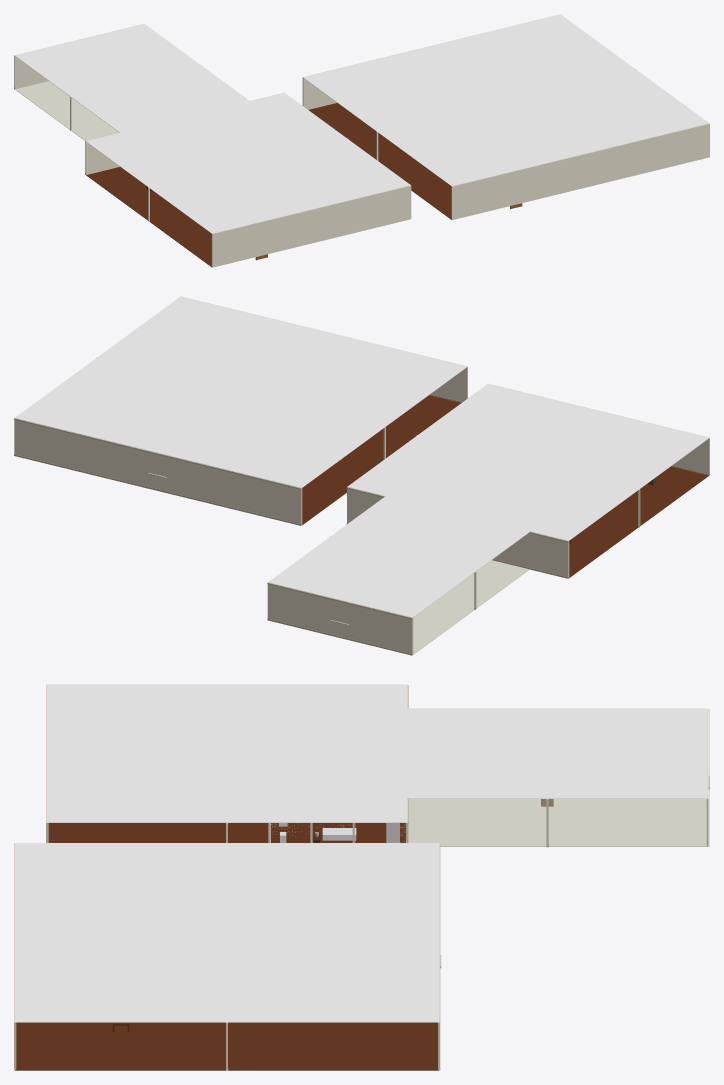
Rendered from ultra_detailed_1389.obj.
The picture shows the model from 3 angles, top to bottom: view 1: azimuth 30°, elevation 25°; view 2: azimuth 150°, elevation 25°; view 3: azimuth 270°, elevation 25°; orthographic projection. The views are drawn at different scales.
Visible parts, largest first — view 1: Living_Room_1_ceiling_Living_Room_1_ceiling_material, Bedroom_1_ceiling_Bedroom_1_ceiling_material, Kitchen_1_ceiling_Kitchen_1_ceiling_material, Living_Room_1_front_wall_Living_Room_1_front_wall_material, Bedroom_1_front_wall_Bedroom_1_front_wall_material, Living_Room_1_floor_Living_Room_1_floor_material, Bedroom_1_floor_Bedroom_1_floor_material, Kitchen_1_floor_Kitchen_1_floor_material, Bathroom_1_ceiling_Bathroom_1_ceiling_material, Living_Room_1_back_wall_Living_Room_1_back_wall_material, Kitchen_1_back_wall_Kitchen_1_back_wall_material, Bedroom_1_back_wall_Bedroom_1_back_wall_material; view 2: Living_Room_1_ceiling_Living_Room_1_ceiling_material, Bedroom_1_ceiling_Bedroom_1_ceiling_material, Kitchen_1_ceiling_Kitchen_1_ceiling_material, Living_Room_1_back_wall_Living_Room_1_back_wall_material, Kitchen_1_back_wall_Kitchen_1_back_wall_material, Living_Room_1_floor_Living_Room_1_floor_material, Bedroom_1_floor_Bedroom_1_floor_material, Kitchen_1_floor_Kitchen_1_floor_material, Bedroom_1_back_wall_Bedroom_1_back_wall_material, Living_Room_1_front_wall_Living_Room_1_front_wall_material, Bedroom_1_front_wall_Bedroom_1_front_wall_material, Living_Room_1_back_wall_baseboard_Living_Room_1_back_wall_basebo; view 3: Living_Room_1_ceiling_Living_Room_1_ceiling_material, Bedroom_1_ceiling_Bedroom_1_ceiling_material, Kitchen_1_ceiling_Kitchen_1_ceiling_material, Living_Room_1_floor_Living_Room_1_floor_material, Kitchen_1_floor_Kitchen_1_floor_material, Bedroom_1_floor_Bedroom_1_floor_material, Bathroom_1_ceiling_Bathroom_1_ceiling_material.
Boxes of the visible parts, <box> form: Living_Room_1_ceiling_Living_Room_1_ceiling_material: <box>303,14,709,186</box>; Bedroom_1_ceiling_Bedroom_1_ceiling_material: <box>86,93,410,233</box>; Kitchen_1_ceiling_Kitchen_1_ceiling_material: <box>14,24,254,137</box>; Living_Room_1_front_wall_Living_Room_1_front_wall_material: <box>451,123,709,220</box>; Bedroom_1_front_wall_Bedroom_1_front_wall_material: <box>211,185,411,267</box>; Living_Room_1_floor_Living_Room_1_floor_material: <box>309,103,451,219</box>; Bedroom_1_floor_Bedroom_1_floor_material: <box>86,167,211,266</box>; Kitchen_1_floor_Kitchen_1_floor_material: <box>15,81,119,140</box>; Bathroom_1_ceiling_Bathroom_1_ceiling_material: <box>230,112,309,145</box>; Living_Room_1_back_wall_Living_Room_1_back_wall_material: <box>302,14,559,109</box>; Kitchen_1_back_wall_Kitchen_1_back_wall_material: <box>14,24,142,89</box>; Bedroom_1_back_wall_Bedroom_1_back_wall_material: <box>85,92,283,174</box>; Living_Room_1_ceiling_Living_Room_1_ceiling_material: <box>15,296,467,487</box>; Bedroom_1_ceiling_Bedroom_1_ceiling_material: <box>347,384,709,540</box>; Kitchen_1_ceiling_Kitchen_1_ceiling_material: <box>268,491,537,617</box>; Living_Room_1_back_wall_Living_Room_1_back_wall_material: <box>14,418,302,525</box>; Kitchen_1_back_wall_Kitchen_1_back_wall_material: <box>267,582,413,654</box>; Living_Room_1_floor_Living_Room_1_floor_material: <box>302,395,460,524</box>; Bedroom_1_floor_Bedroom_1_floor_material: <box>569,466,709,577</box>; Kitchen_1_floor_Kitchen_1_floor_material: <box>413,560,529,654</box>; Bedroom_1_back_wall_Bedroom_1_back_wall_material: <box>347,487,569,578</box>; Living_Room_1_front_wall_Living_Room_1_front_wall_material: <box>181,296,467,401</box>; Bedroom_1_front_wall_Bedroom_1_front_wall_material: <box>488,383,709,475</box>; Living_Room_1_back_wall_baseboard_Living_Room_1_back_wall_basebo: <box>14,454,301,525</box>; Living_Room_1_ceiling_Living_Room_1_ceiling_material: <box>15,843,438,1022</box>; Bedroom_1_ceiling_Bedroom_1_ceiling_material: <box>47,684,406,822</box>; Kitchen_1_ceiling_Kitchen_1_ceiling_material: <box>387,708,707,798</box>; Living_Room_1_floor_Living_Room_1_floor_material: <box>15,1022,438,1070</box>; Kitchen_1_floor_Kitchen_1_floor_material: <box>400,799,707,846</box>; Bedroom_1_floor_Bedroom_1_floor_material: <box>48,823,405,842</box>; Bathroom_1_ceiling_Bathroom_1_ceiling_material: <box>269,771,353,806</box>.
Size of the model in its own units: 37.97 by 2.87 by 32.97.
